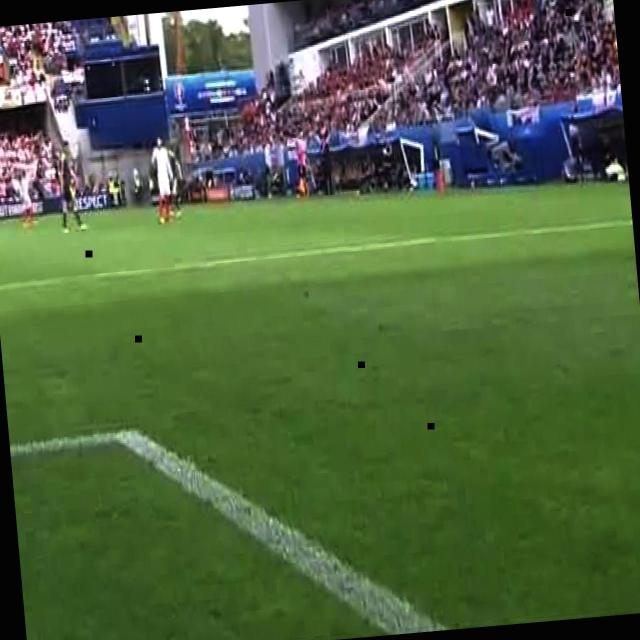player-white: (56, 140, 86, 234), (150, 136, 176, 224), (18, 170, 36, 228)
